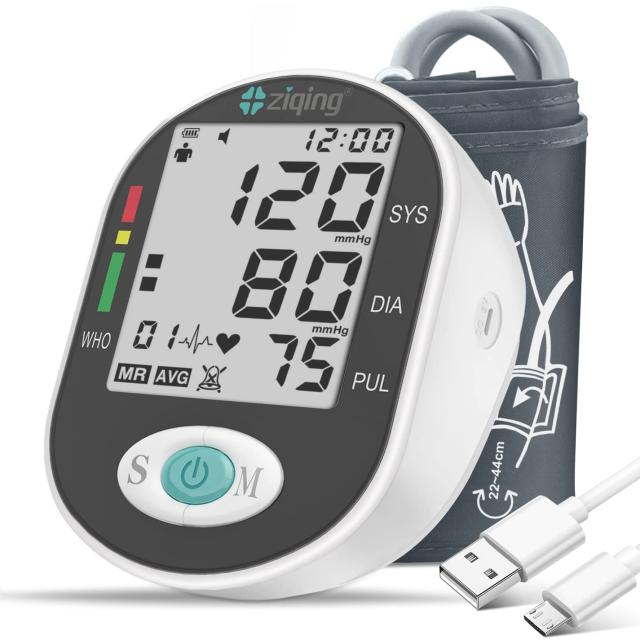dia: (209, 242, 376, 328)
pul: (250, 327, 350, 398)
ssd: (100, 69, 403, 443)
sys: (214, 152, 399, 235)
